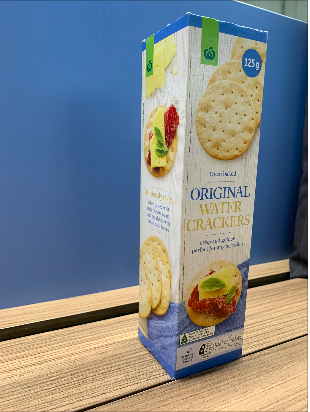Crackers_100-199g: (148, 42, 243, 355)
